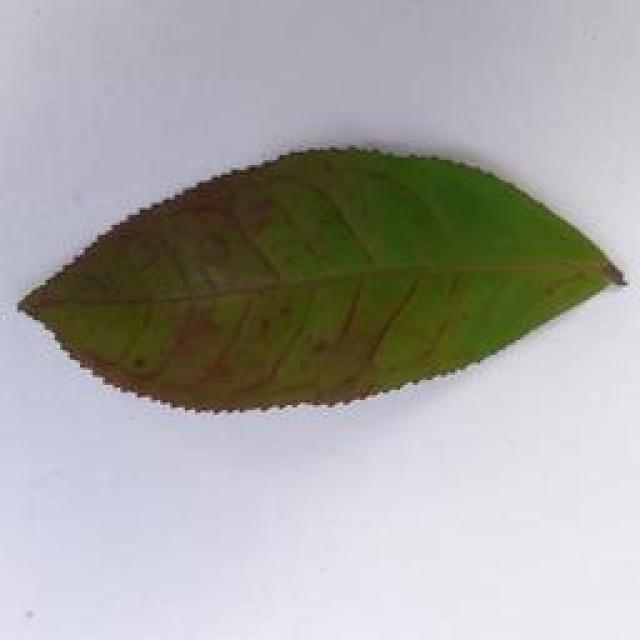Red Leaf Spot: (0, 139, 640, 416)
